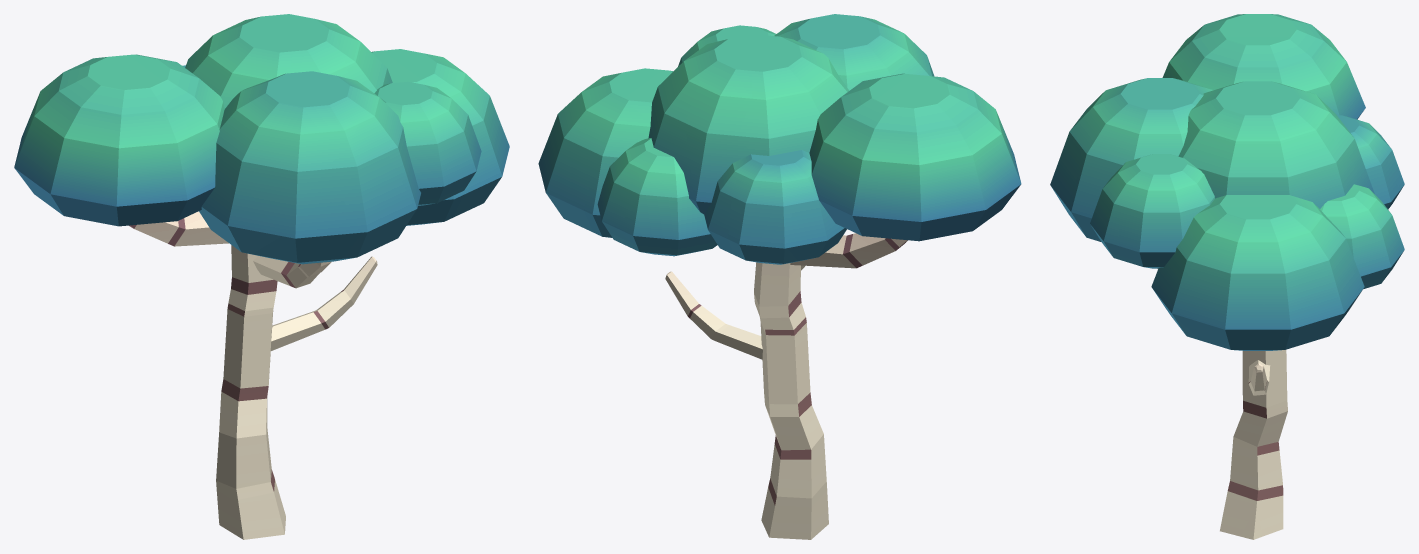
File: birch001.obj
3 views of the same model, side by side, from view 1: azimuth 30°, elevation 25°; view 2: azimuth 150°, elevation 25°; view 3: azimuth 270°, elevation 25° (orthographic). The views are drawn at different scales.
Parts seen in each view (by area): view 1: Birch.001; view 2: Birch.001; view 3: Birch.001.
Part boxes in pixels (x1,y1,x2,y2): Birch.001: (14,14,509,539); Birch.001: (538,14,1021,539); Birch.001: (1050,14,1404,539).
Bounding box in the file's own units: 15.11 × 15.11 × 10.99.
Materials: 1 (1 with a texture image).
